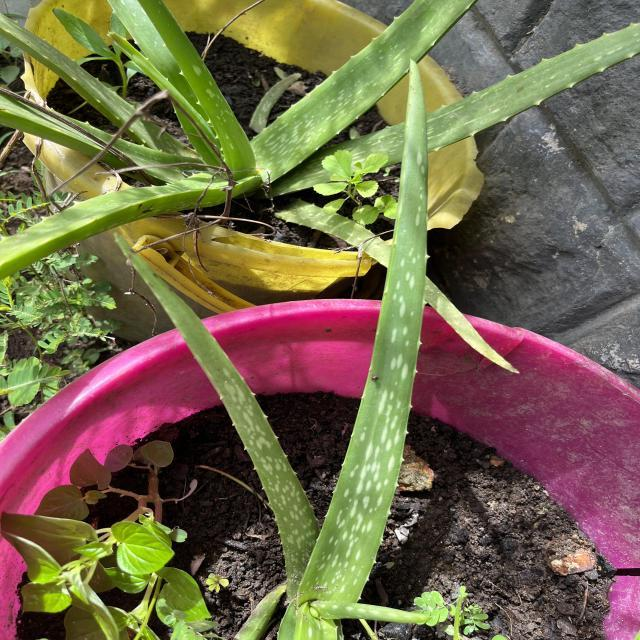Aloe vera: (293, 54, 432, 609)
